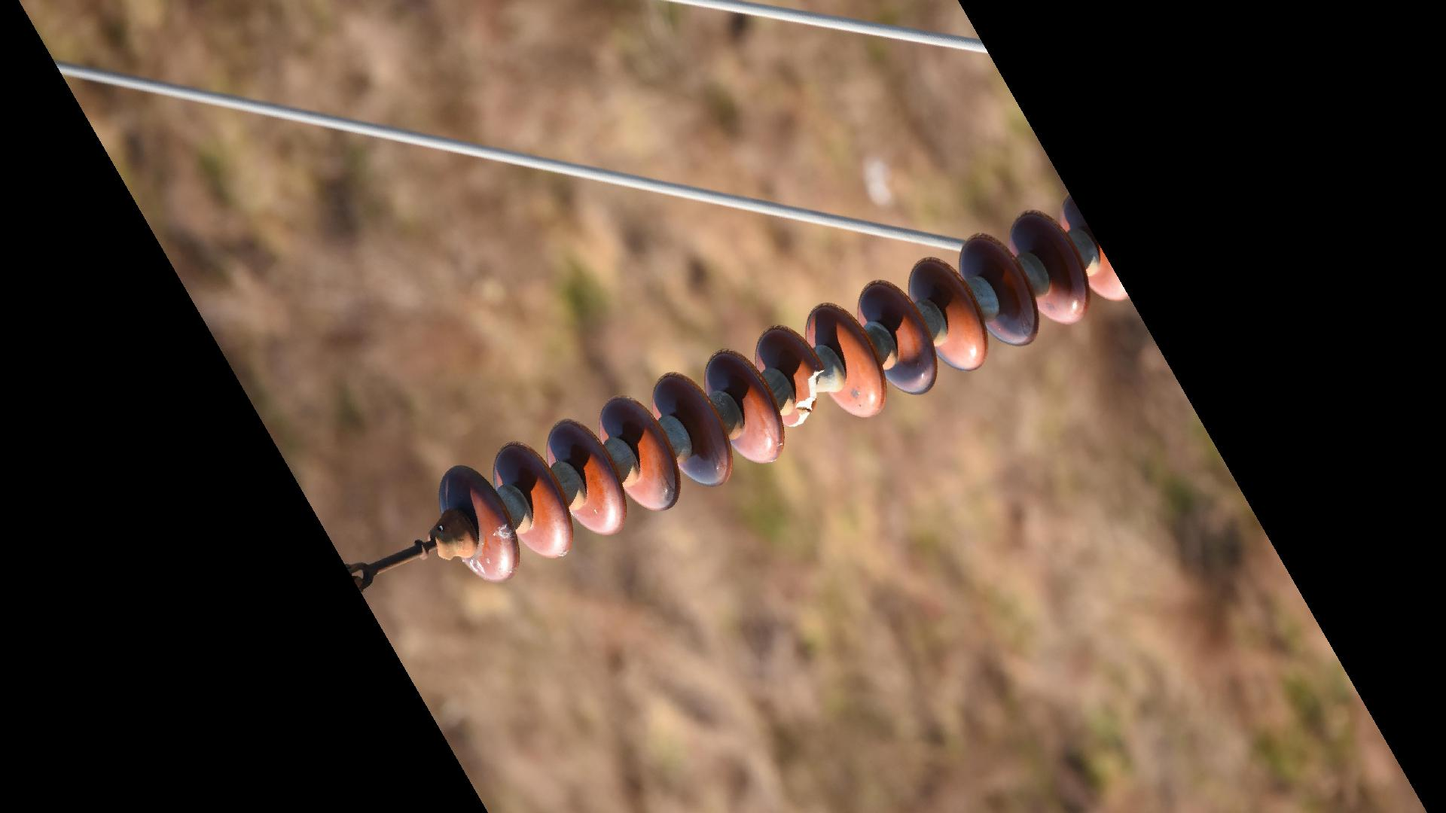insulator: (430, 195, 1132, 589)
insulator_breakage: (786, 362, 829, 433)
